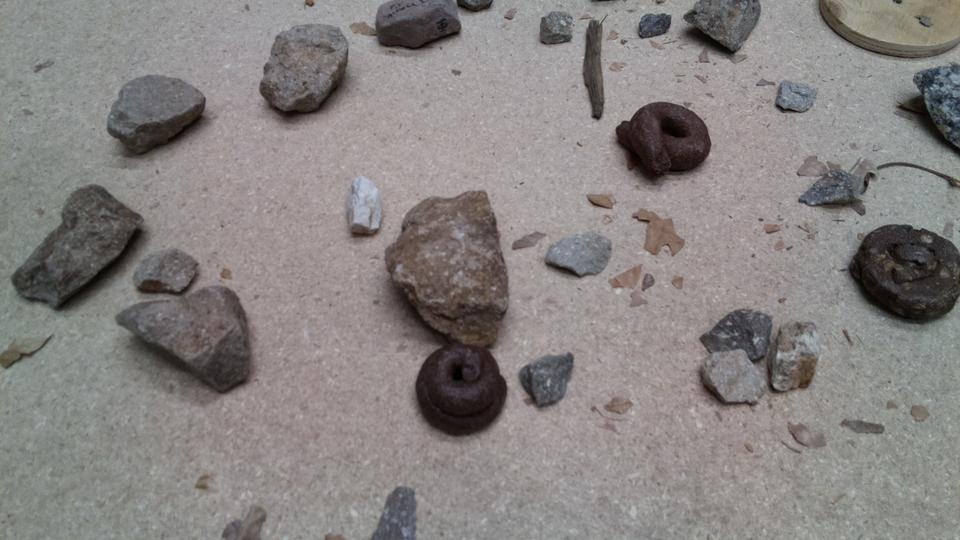poop: (849, 219, 960, 325), (413, 337, 511, 437), (613, 99, 714, 183)
